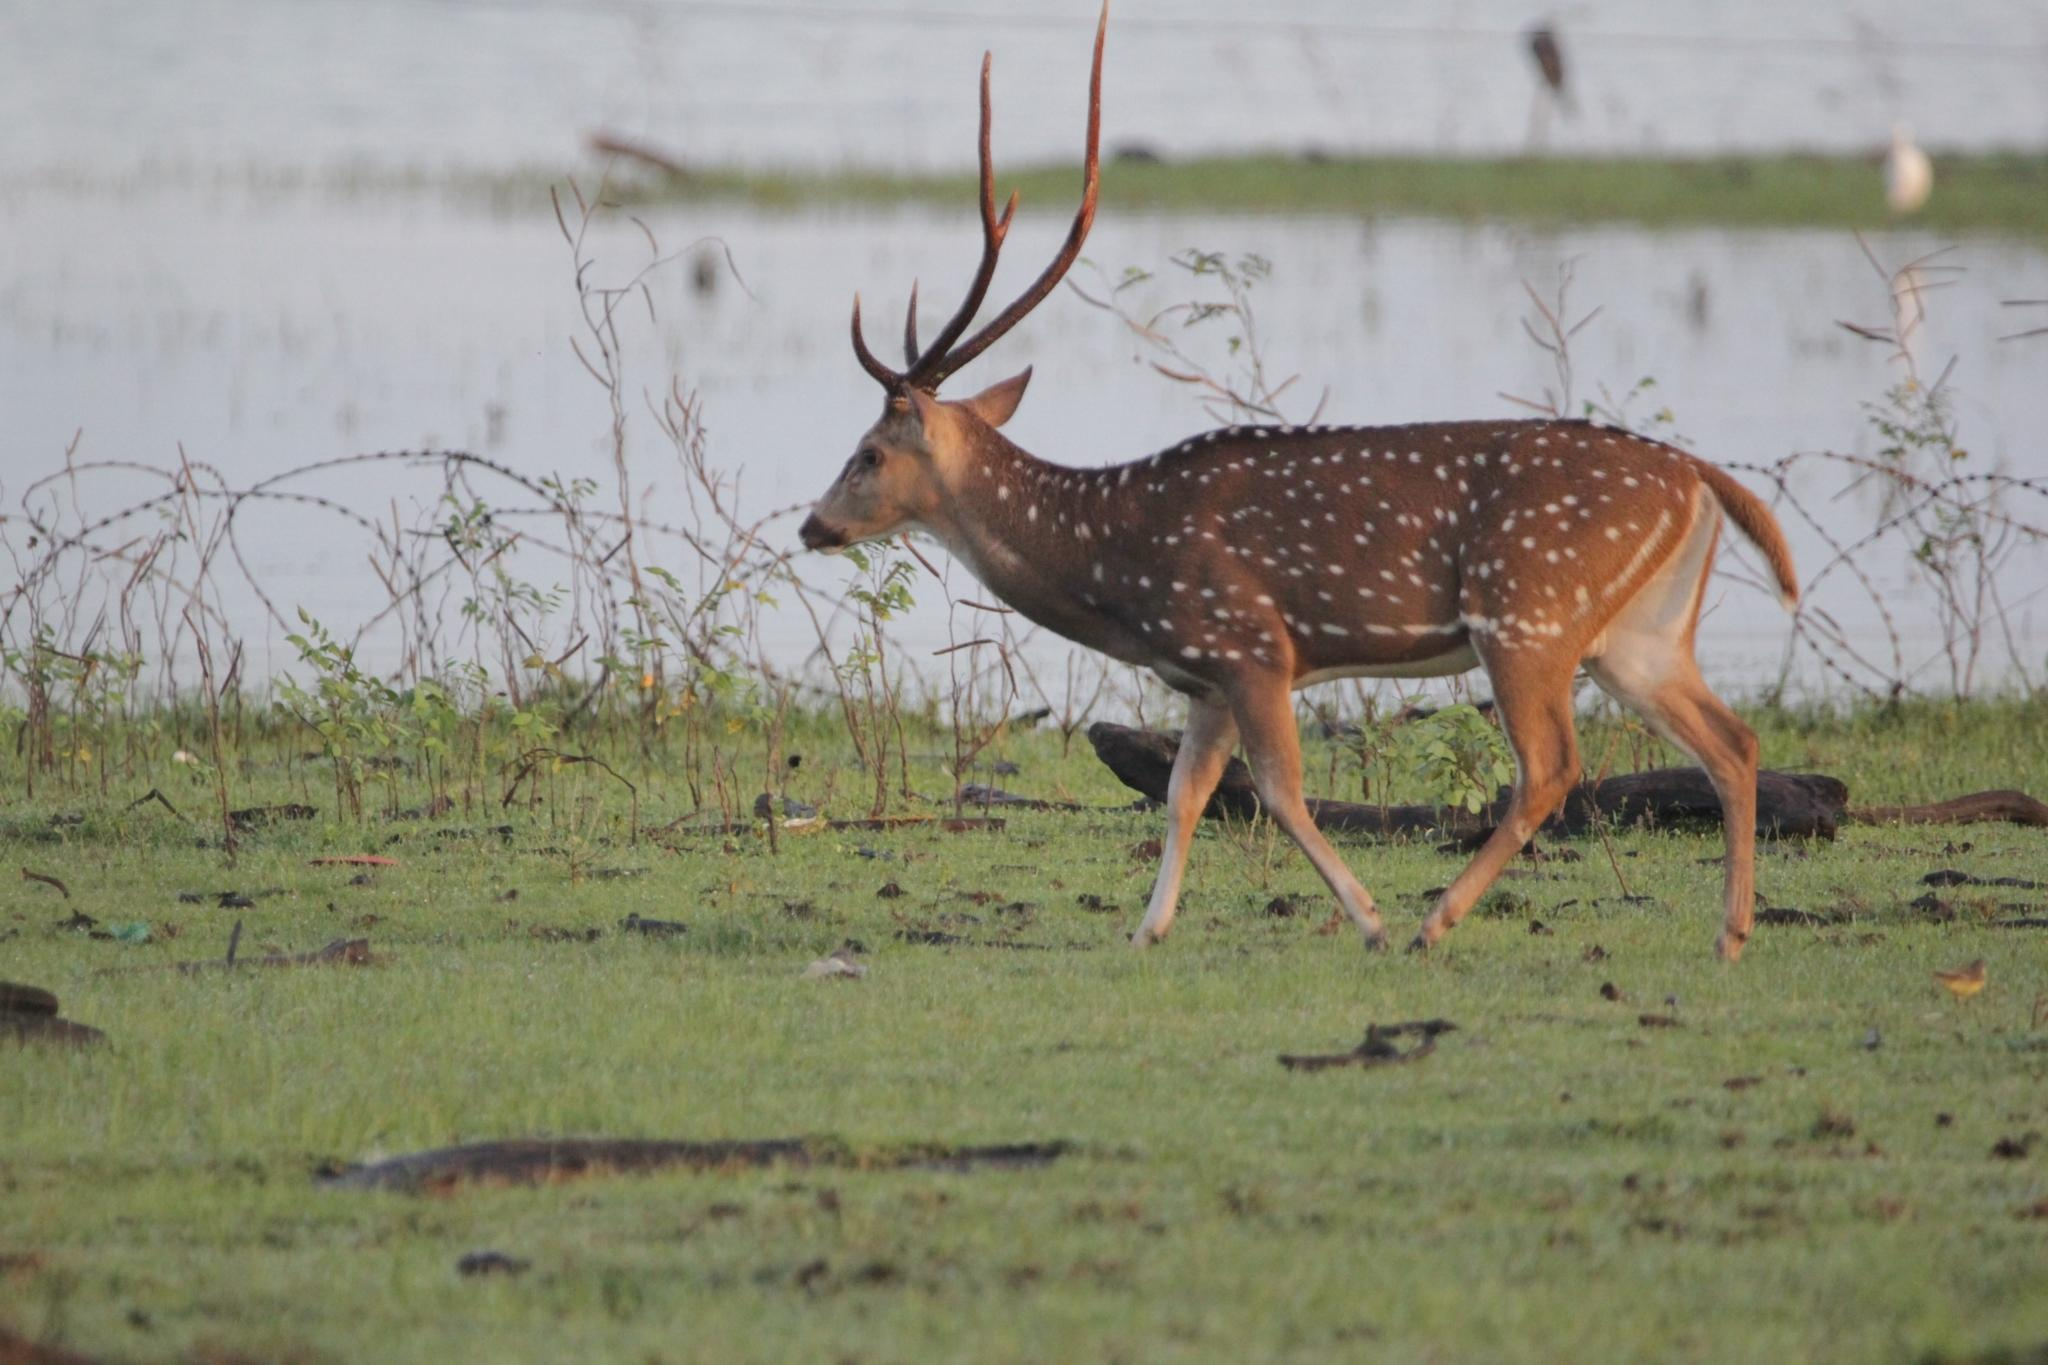Deer: (799, 18, 1798, 957)
